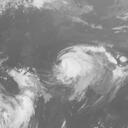cyclone: (53, 44, 110, 94)
